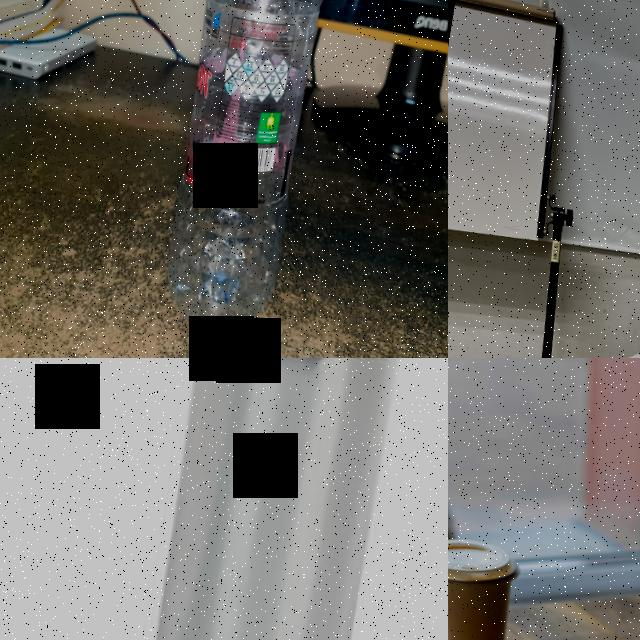bottle: (140, 0, 375, 344)
can: (133, 358, 420, 640)
cup: (448, 531, 524, 640)
